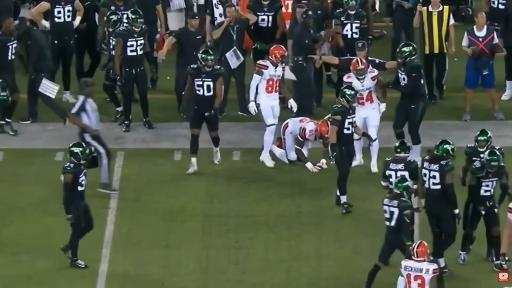Helmet: (396, 42, 417, 62), (483, 149, 502, 171), (69, 142, 88, 163), (393, 176, 411, 197), (475, 129, 492, 151), (434, 140, 455, 157), (127, 9, 143, 31), (411, 241, 429, 260), (338, 86, 357, 104), (105, 11, 122, 31), (198, 49, 214, 70), (351, 58, 367, 79), (269, 45, 287, 63), (0, 79, 10, 108), (316, 119, 330, 139), (394, 140, 410, 156), (344, 0, 358, 13)
Jersey: (421, 156, 454, 207), (187, 65, 224, 110), (470, 162, 506, 206), (343, 69, 379, 113), (247, 0, 282, 43), (393, 61, 426, 102), (116, 26, 147, 69), (382, 157, 418, 193), (334, 9, 367, 46), (256, 60, 284, 103), (383, 198, 413, 237), (331, 106, 355, 152), (100, 0, 136, 29), (49, 0, 76, 38), (401, 260, 439, 287), (62, 162, 86, 200), (282, 118, 316, 142), (465, 145, 504, 165), (0, 33, 16, 78), (487, 0, 509, 31), (107, 32, 115, 59), (508, 203, 511, 221)
Player: (327, 86, 376, 213), (459, 150, 509, 270), (248, 45, 297, 167), (419, 140, 460, 274), (181, 49, 224, 174), (31, 0, 83, 102), (366, 177, 413, 287), (114, 9, 154, 132), (61, 142, 98, 268), (391, 43, 426, 161), (343, 58, 385, 138), (271, 118, 330, 171), (461, 129, 504, 186), (247, 0, 285, 63), (0, 18, 19, 135), (103, 10, 122, 122), (397, 241, 443, 287), (97, 0, 136, 50), (382, 140, 418, 193), (334, 0, 367, 56), (483, 0, 509, 32), (500, 203, 511, 269)
